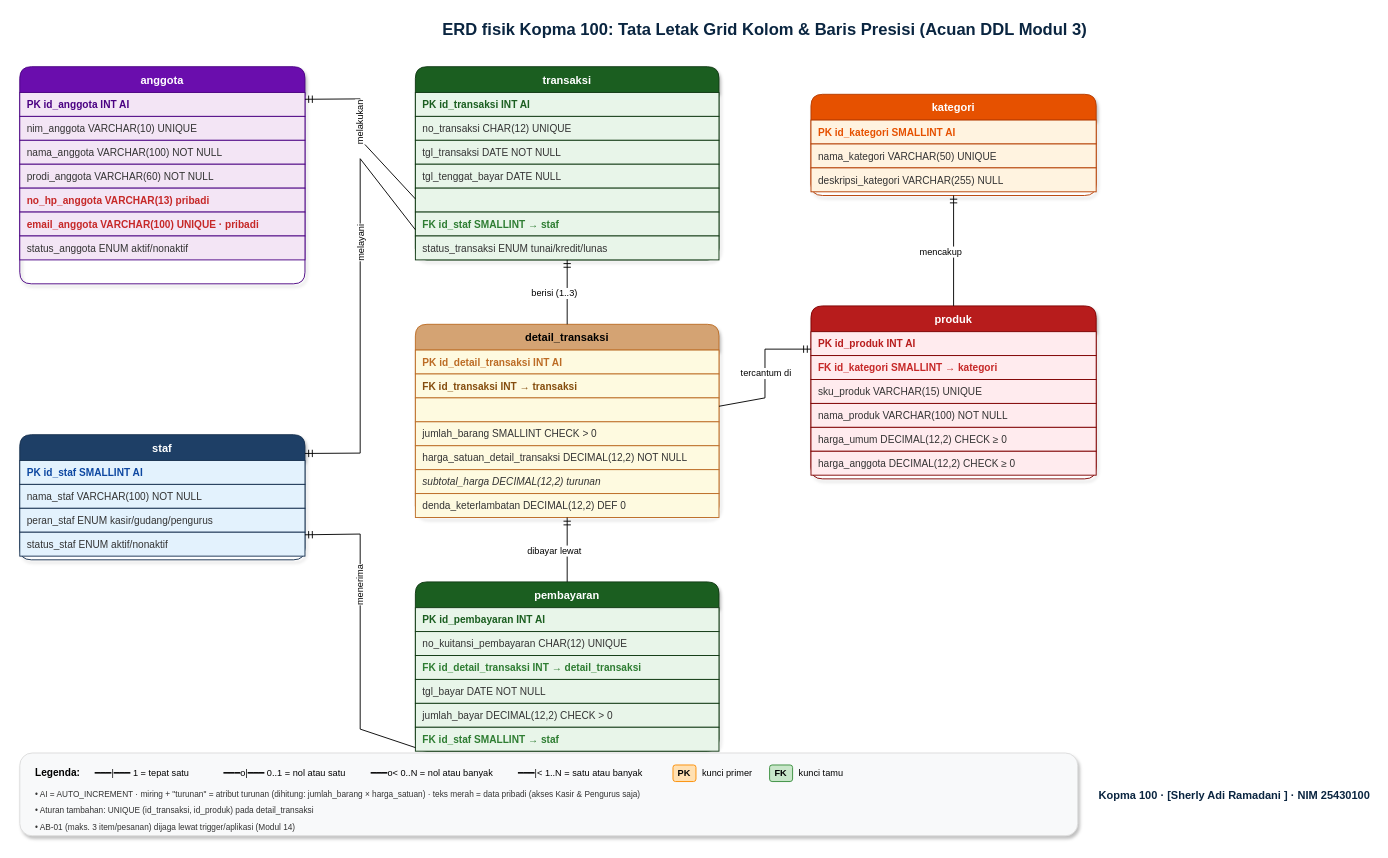
This 1388x858 diagram has some shape labels left out. The shapes that lost their labels are listed below. From the top down, each one's centre as x and y in pixels, then its label:
At pixel 566 199: "FK id_anggota INT → anggota, NULL".
At pixel 566 409: "FK id_produk INT → produk".
